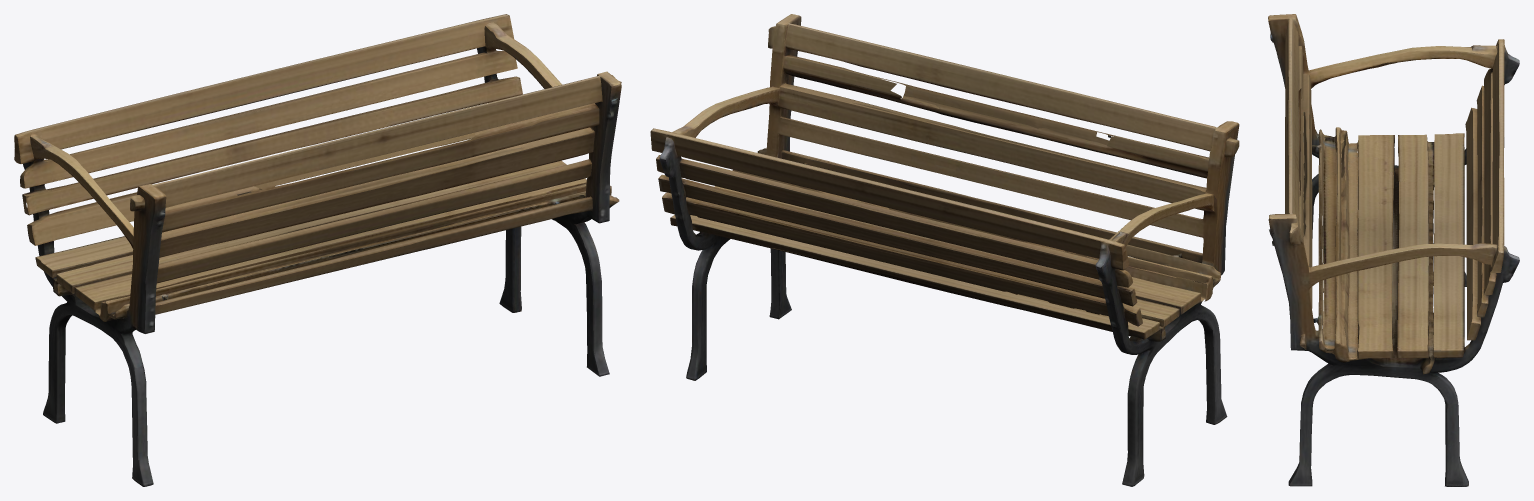
The model's file is bench_tex.glb.
The picture shows the model from 3 angles, left to right: view 1: azimuth 30°, elevation 25°; view 2: azimuth 150°, elevation 25°; view 3: azimuth 270°, elevation 25°; orthographic projection. The views are drawn at different scales.
Visible parts, largest first — view 1: bench; view 2: bench; view 3: bench.
Boxes of the visible parts, left/top/right/bottom form: bench: left=14, top=14, right=621, bottom=486; bench: left=650, top=14, right=1239, bottom=486; bench: left=1268, top=14, right=1519, bottom=486.
Size of the model in its own units: 1.73 by 1 by 0.8479.
1 material, 1 textured.
